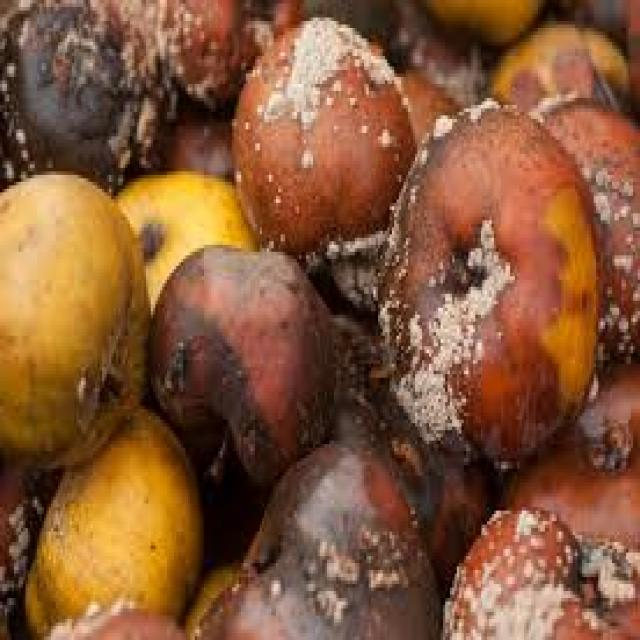organic waste: (376, 94, 594, 468), (227, 10, 415, 301), (194, 434, 440, 636), (329, 304, 496, 588), (146, 241, 329, 486), (0, 168, 148, 469), (23, 406, 202, 636), (0, 0, 164, 192), (528, 94, 638, 364), (498, 360, 638, 549), (440, 504, 638, 636), (111, 164, 258, 315), (152, 0, 301, 115), (482, 18, 638, 108), (0, 451, 58, 637), (146, 88, 230, 178), (301, 0, 415, 66), (408, 14, 485, 101), (420, 0, 547, 49), (33, 598, 183, 637), (394, 66, 462, 147), (556, 0, 637, 45)
